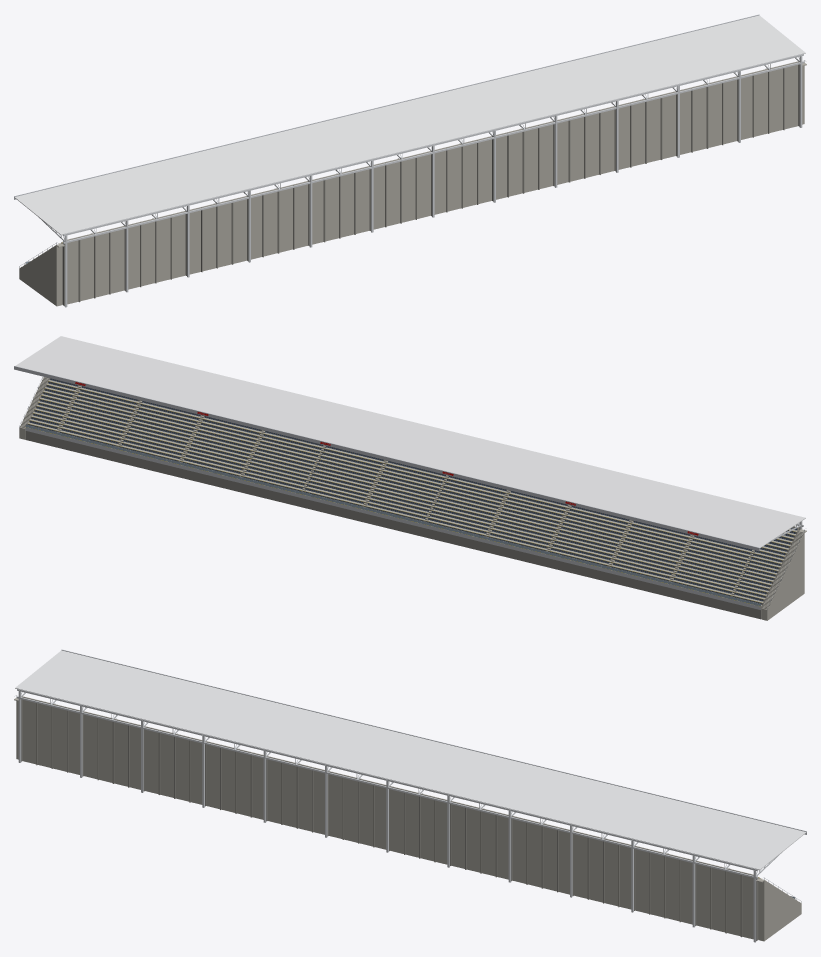
Rendered from grandstand_main.glb.
3 views of the same model, one above another, from view 1: azimuth 30°, elevation 25°; view 2: azimuth 150°, elevation 25°; view 3: azimuth 330°, elevation 25° (orthographic).
Parts seen in each view (by area): view 1: grandstand; view 2: grandstand; view 3: grandstand.
Boxes of the visible parts, x1,y1,x2,y2 form: grandstand: (14, 14, 806, 307); grandstand: (14, 336, 806, 620); grandstand: (14, 649, 806, 942).
Bounding box in the file's own units: 305 × 30.25 × 33.48.
